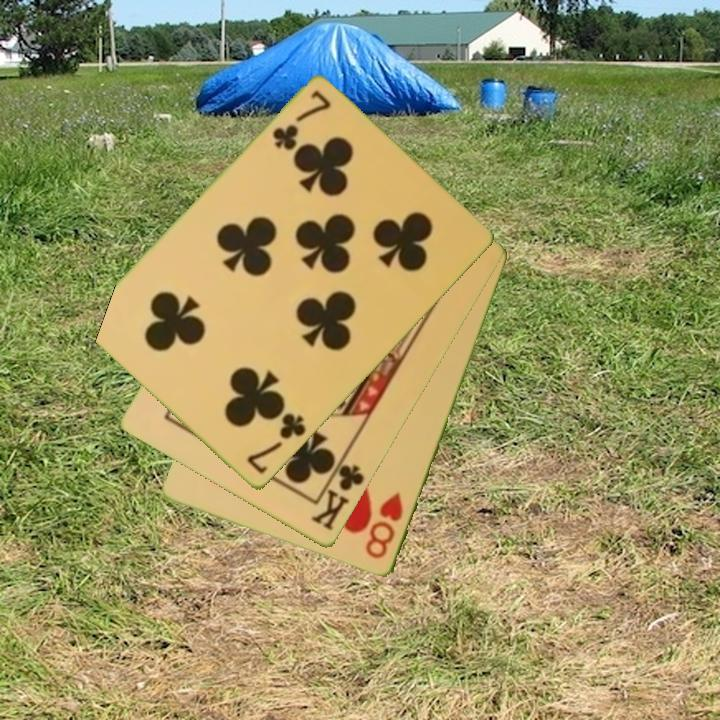7c: (243, 409, 309, 478), (269, 87, 335, 154)
8h: (362, 488, 406, 563)
Kc: (307, 452, 368, 534)
